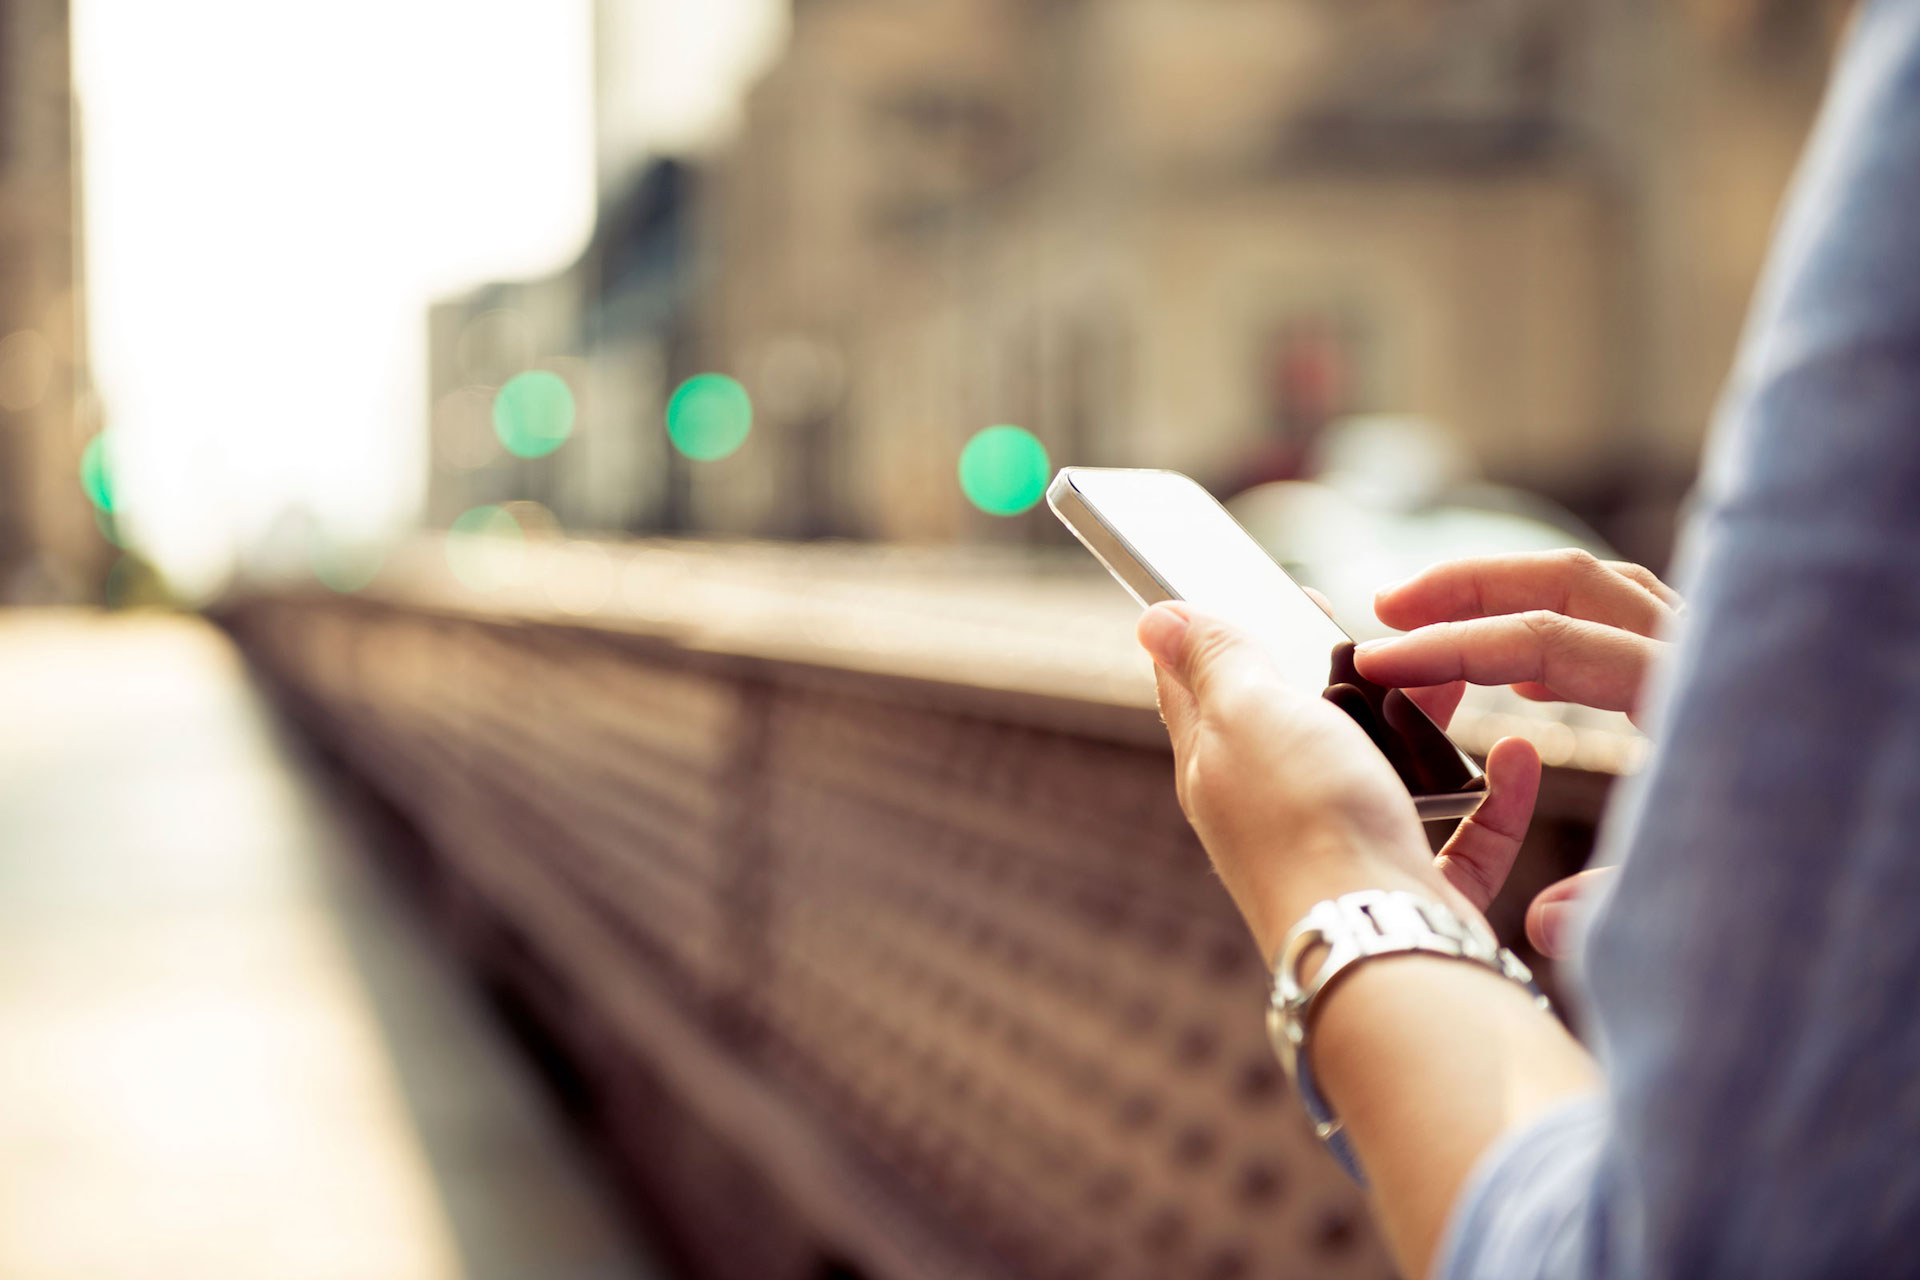smartphone: (1043, 461, 1494, 829)
